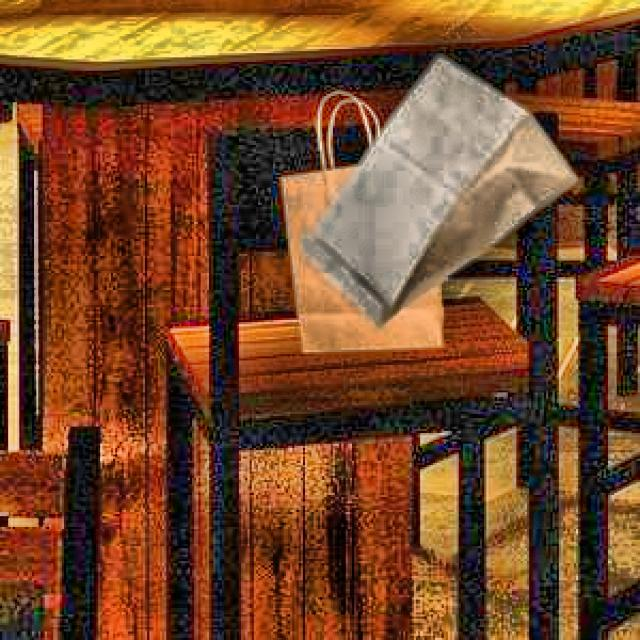Paper-bag: (301, 40, 576, 328), (257, 72, 486, 365)
